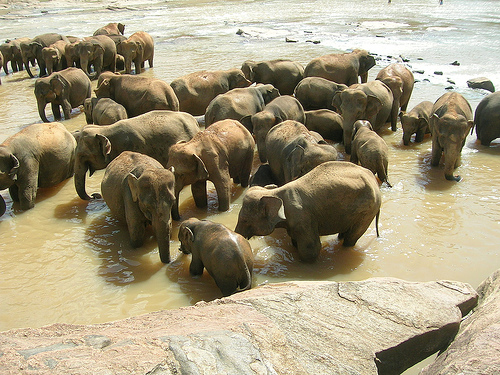elephant: (231, 156, 397, 261), (73, 107, 218, 204), (100, 149, 183, 268), (164, 115, 259, 212), (1, 118, 80, 217), (177, 212, 260, 298), (428, 84, 479, 201), (328, 74, 398, 153), (346, 115, 394, 185), (29, 64, 92, 117), (396, 91, 444, 156), (71, 34, 125, 84), (118, 25, 161, 76), (18, 29, 63, 74), (39, 34, 74, 75)
